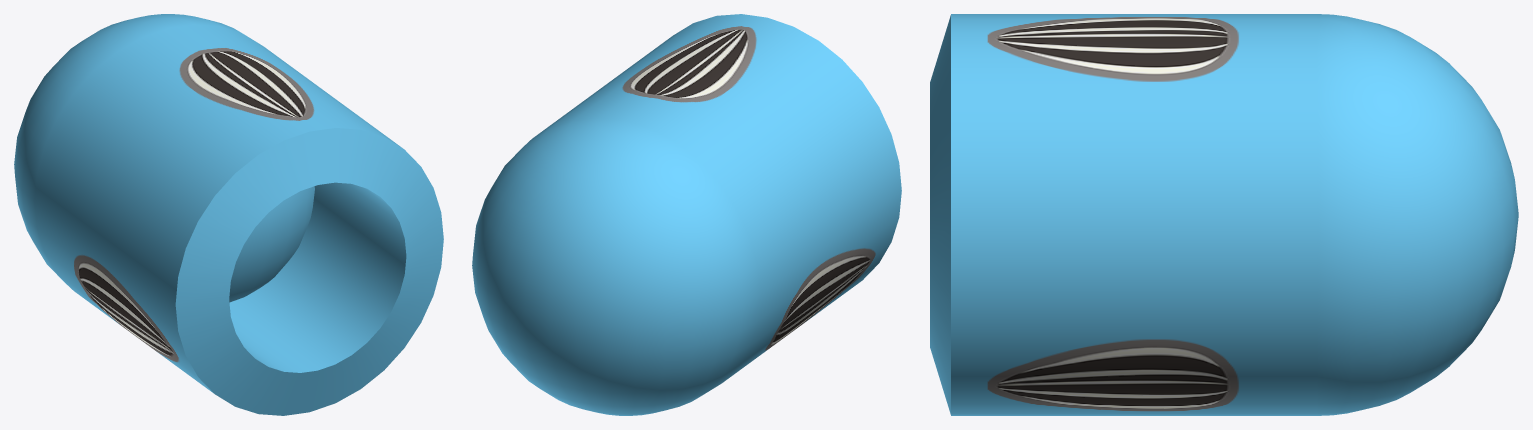
The model's file is Cannon3.fbx.
3 renders of one model, left to right at view 1: azimuth 30°, elevation 25°; view 2: azimuth 150°, elevation 25°; view 3: azimuth 270°, elevation 25°, orthographic. The views are drawn at different scales.
Visible parts, largest first — view 1: 球; view 2: 球; view 3: 球.
Part boxes in pixels (<box>): 球: <box>14,14,443,415</box>; 球: <box>472,14,901,415</box>; 球: <box>930,14,1518,415</box>.
Size of the model in its own units: 37.5 by 37.5 by 54.86.
Materials: 1 (1 with a texture image).
